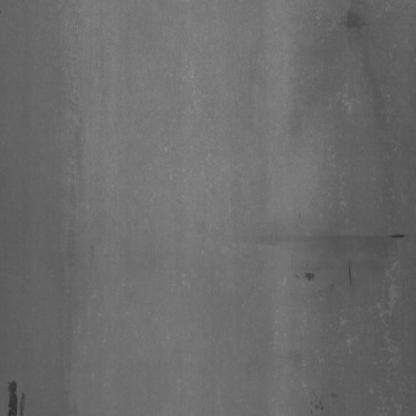oil_spot: (306, 381, 341, 413), (344, 7, 370, 50), (5, 378, 27, 416), (296, 260, 318, 289), (344, 257, 356, 288), (382, 232, 406, 244)
